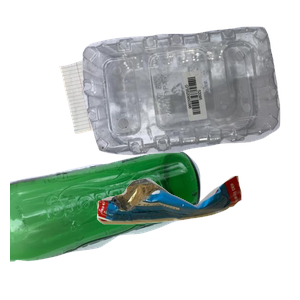glass: (10, 149, 203, 300)
paper: (56, 40, 229, 166)
plastic: (80, 24, 300, 172)
trash: (94, 173, 300, 300)
